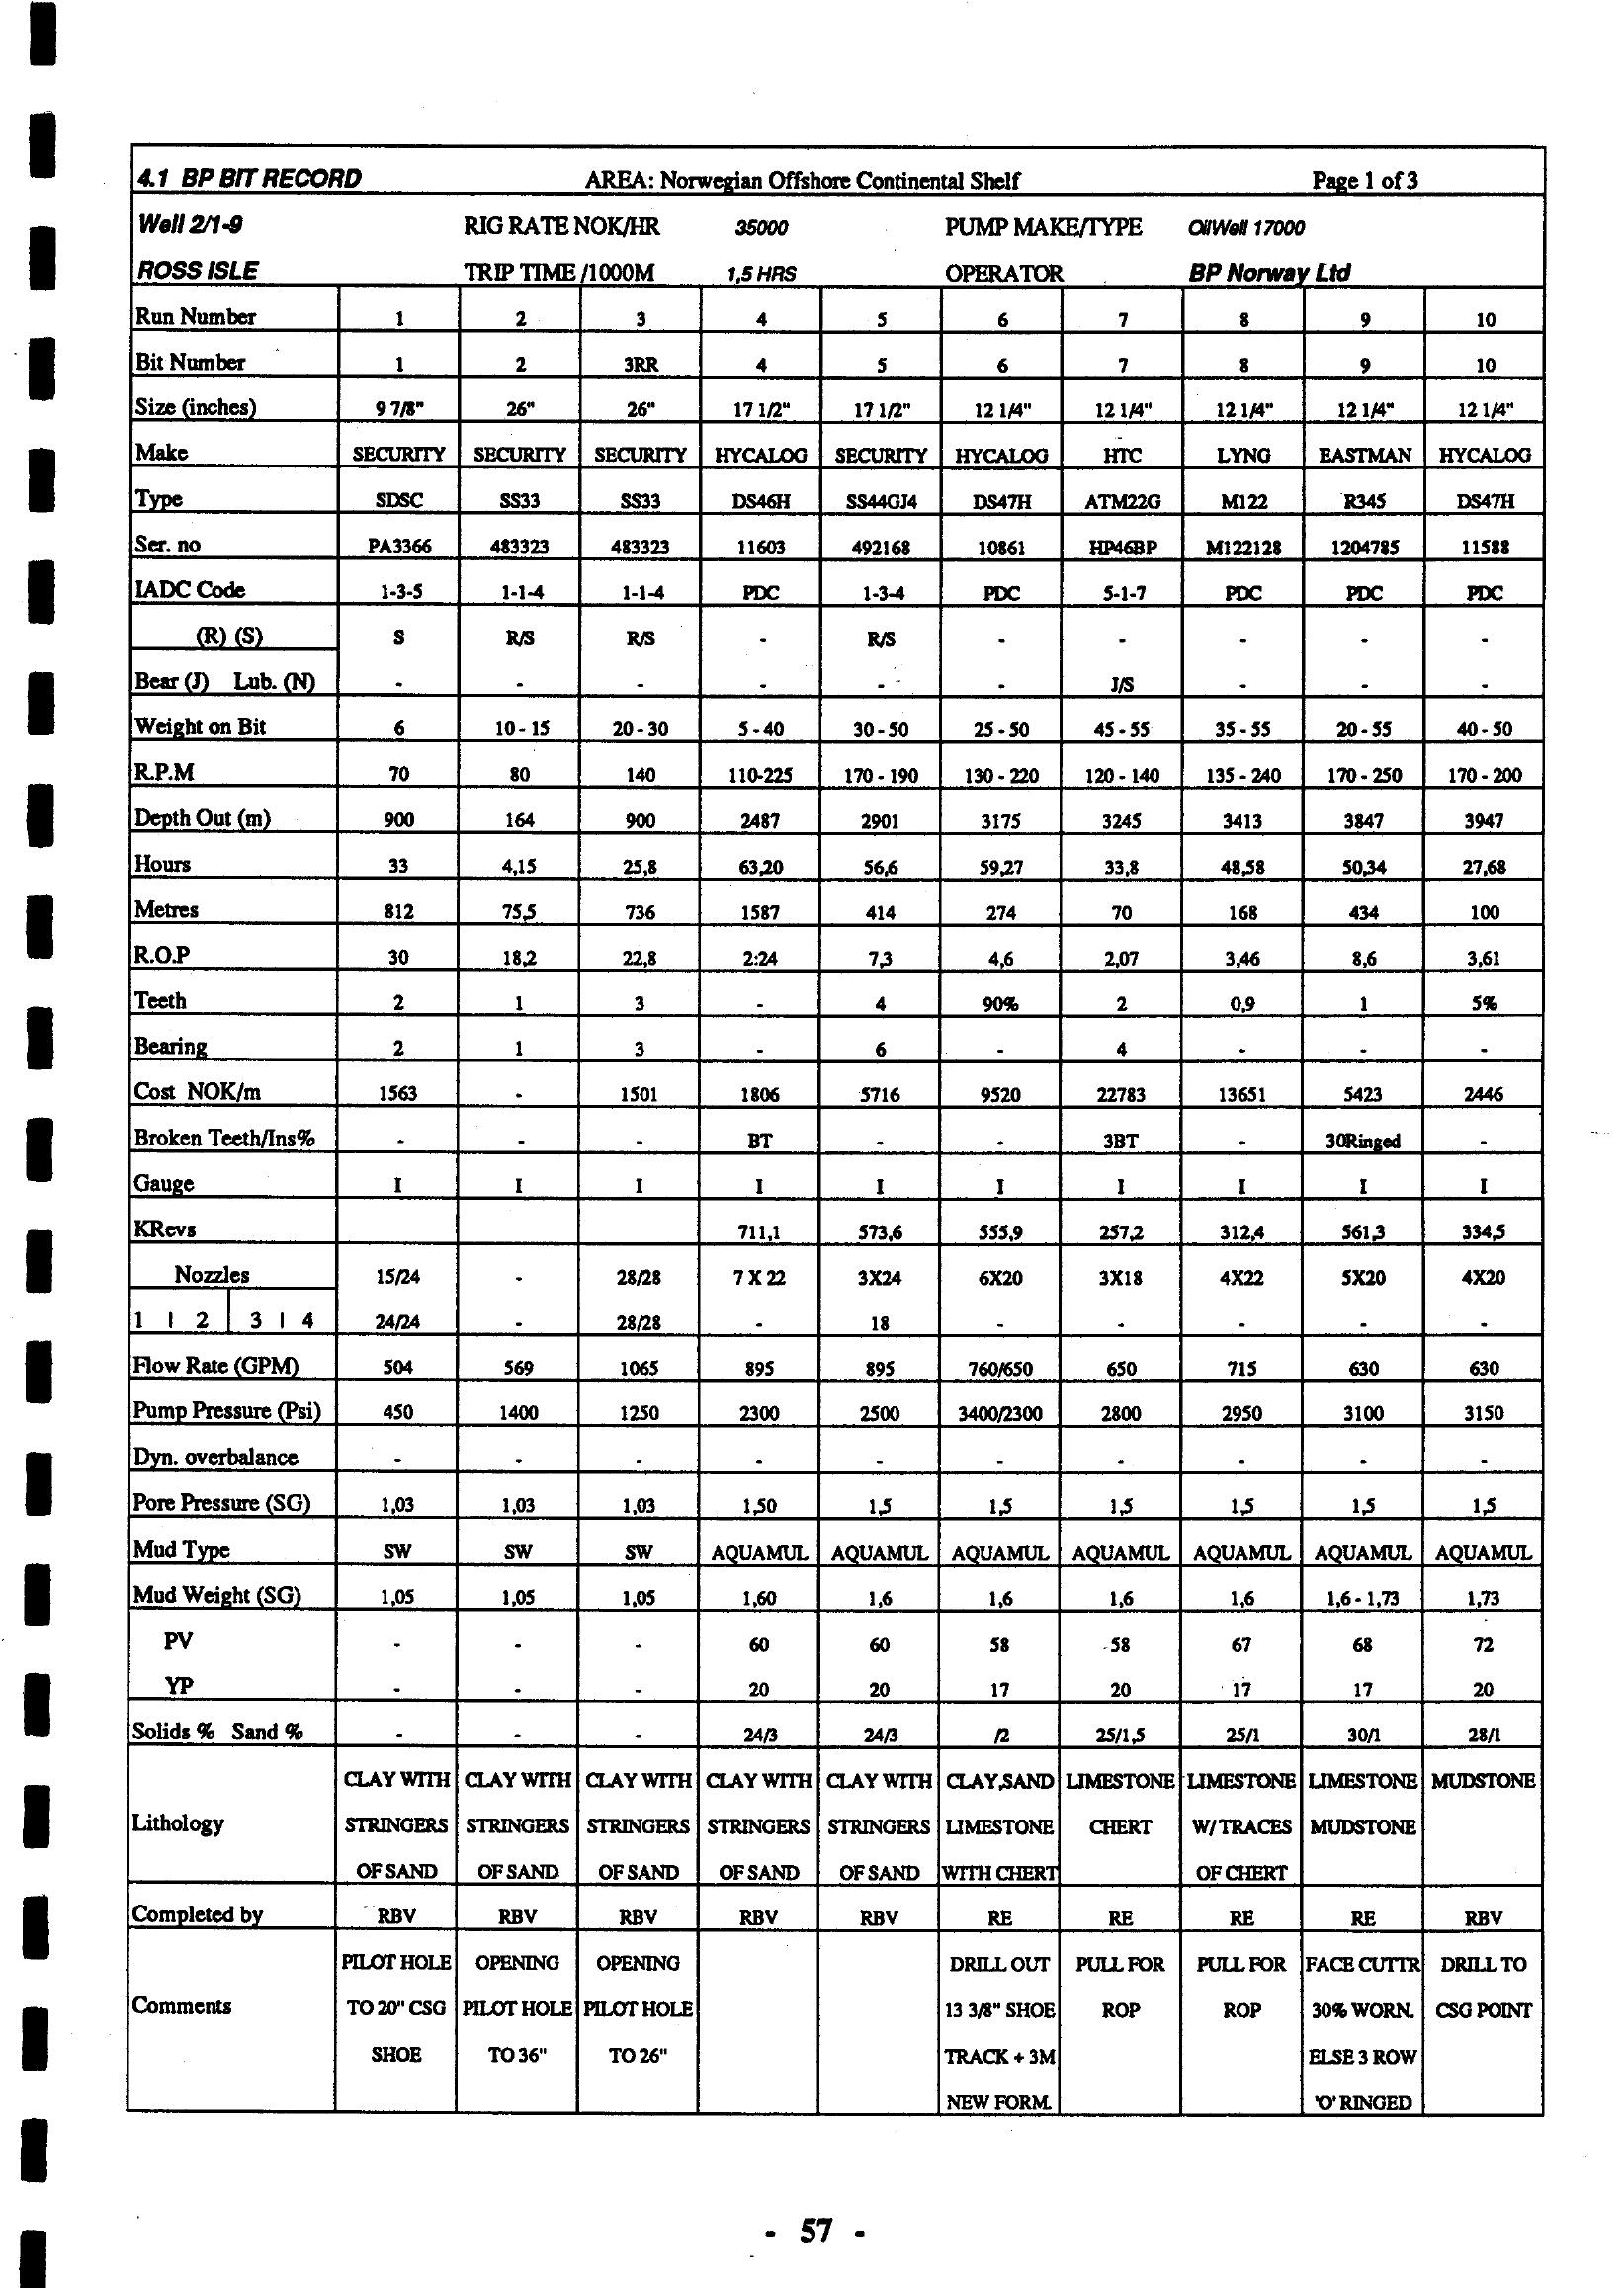table: (93, 125, 1580, 2149)
